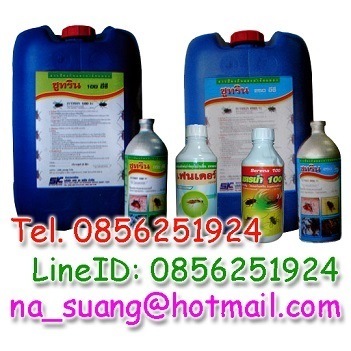Insecticide: (10, 22, 144, 234), (179, 29, 322, 143), (293, 120, 345, 245), (239, 127, 285, 246), (175, 122, 220, 226), (123, 115, 168, 217)
